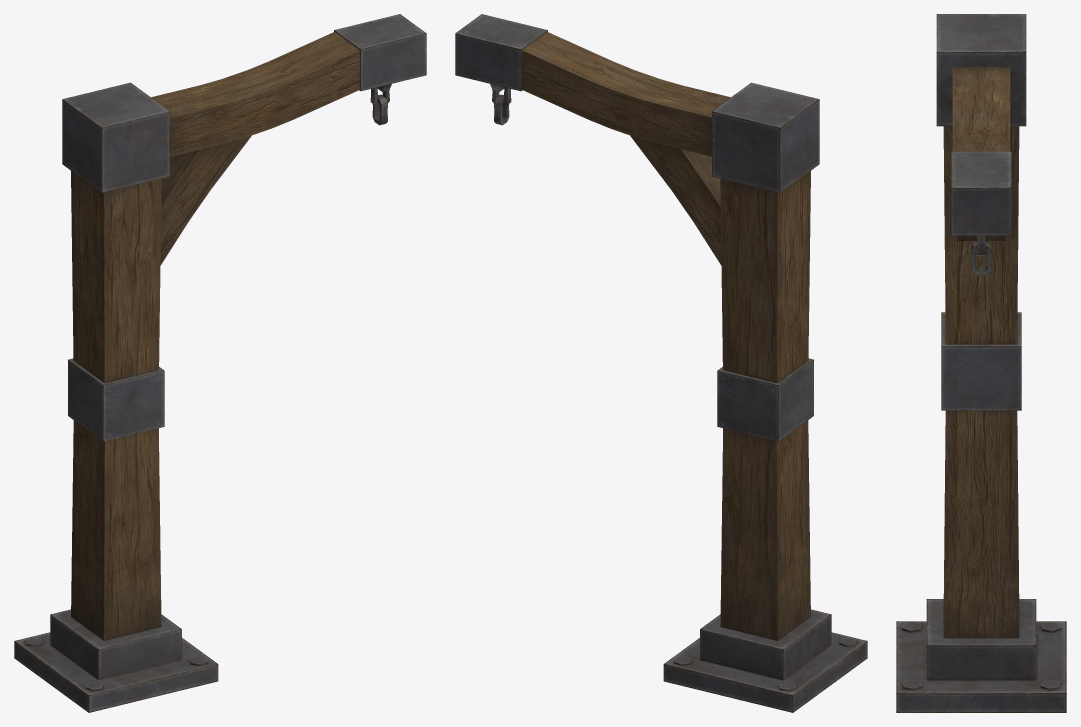
Rendered from Column.fbx.
3 renders of one model, left to right at view 1: azimuth 30°, elevation 25°; view 2: azimuth 150°, elevation 25°; view 3: azimuth 270°, elevation 25°, orthographic. The views are drawn at different scales.
Visible parts, largest first — view 1: Column; view 2: Column; view 3: Column.
Part boxes in pixels (x1,y1,x2,y2): Column: (14, 14, 426, 712); Column: (455, 14, 867, 712); Column: (896, 14, 1066, 712).
Bounding box in the file's own units: 171 × 258 × 60.98.
